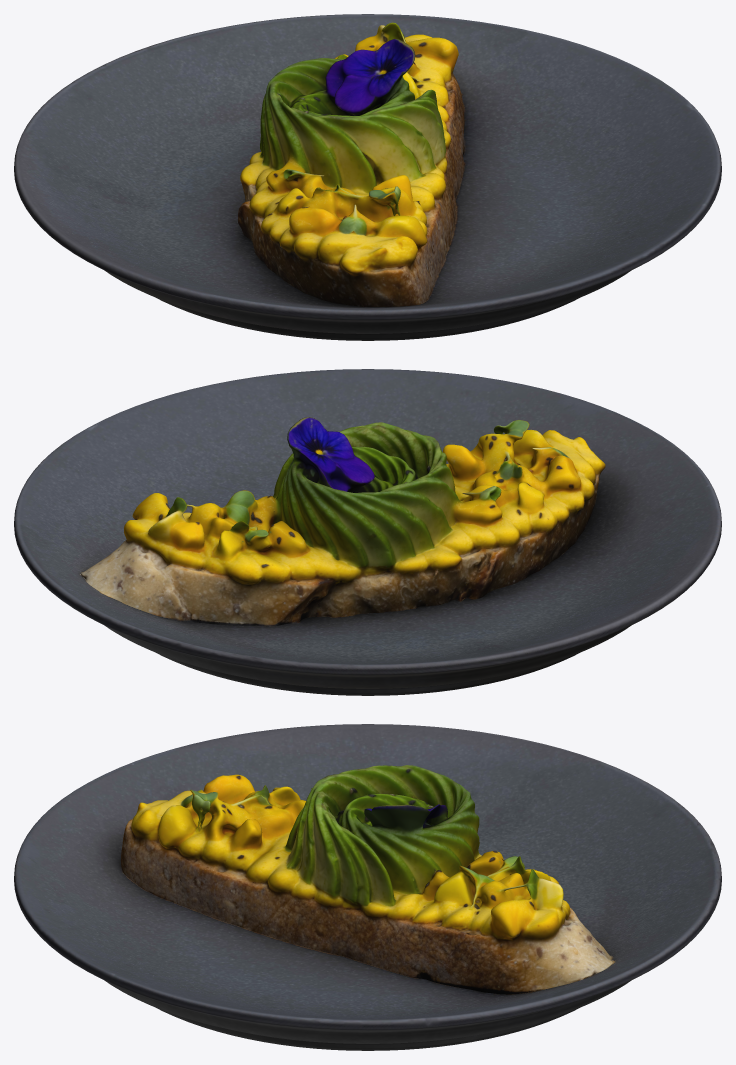
The model's file is Mango Tango.FBX.
3 renders of one model, top to bottom at view 1: azimuth 30°, elevation 25°; view 2: azimuth 150°, elevation 25°; view 3: azimuth 270°, elevation 25°, orthographic.
Visible parts, largest first — view 1: Dish22_The Mango Curry Tango; view 2: Dish22_The Mango Curry Tango; view 3: Dish22_The Mango Curry Tango.
Part boxes in pixels (x1,y1,x2,y2): Dish22_The Mango Curry Tango: [14, 14, 721, 340]; Dish22_The Mango Curry Tango: [14, 369, 721, 695]; Dish22_The Mango Curry Tango: [14, 724, 721, 1050].
Size of the model in its own units: 25.63 by 6.3 by 25.63.
1 material, 1 textured.
